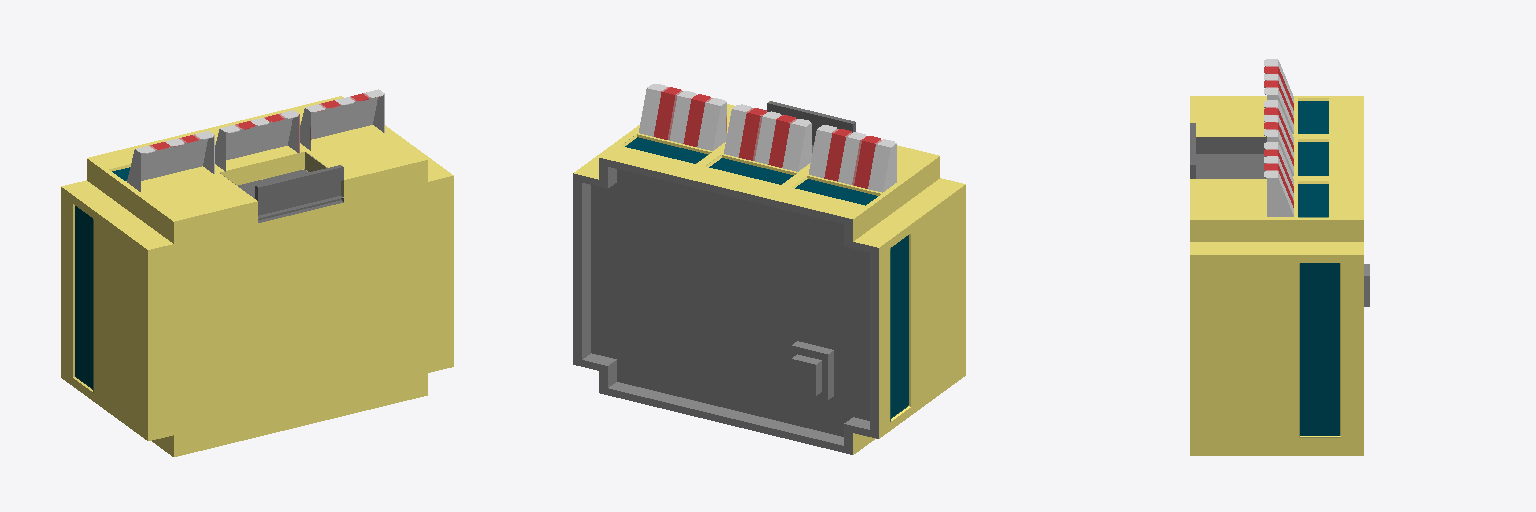
3 renders of one model, left to right at view 1: azimuth 30°, elevation 25°; view 2: azimuth 150°, elevation 25°; view 3: azimuth 270°, elevation 25°, orthographic.
Visible parts, largest first — view 1: stores-buildings-sunblind_Plane.025; view 2: stores-buildings-sunblind_Plane.025; view 3: stores-buildings-sunblind_Plane.025.
Boxes of the visible parts, x1=… form: stores-buildings-sunblind_Plane.025: x1=61, y1=89, x2=453, y2=456; stores-buildings-sunblind_Plane.025: x1=573, y1=84, x2=965, y2=454; stores-buildings-sunblind_Plane.025: x1=1190, y1=59, x2=1369, y2=455.
Bounding box in the file's own units: 8.03 × 6.9 × 4.1.
Materials: 1 (1 with a texture image).